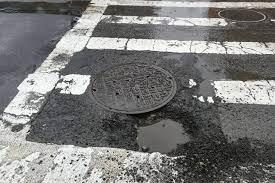open manhole-not overflowing-: (89, 61, 198, 155)
